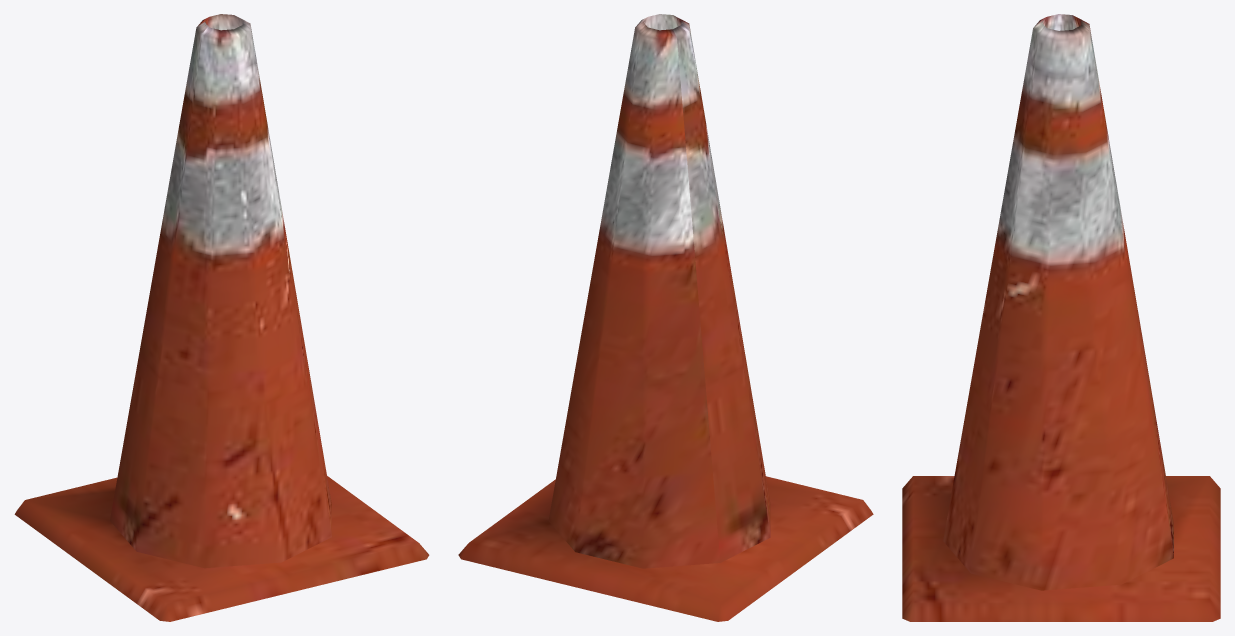
File: trafficcone001a.glb
3 renders of one model, left to right at view 1: azimuth 30°, elevation 25°; view 2: azimuth 150°, elevation 25°; view 3: azimuth 270°, elevation 25°, orthographic. The views are drawn at different scales.
Visible parts, largest first — view 1: 0_TrafficCone001a; view 2: 0_TrafficCone001a; view 3: 0_TrafficCone001a.
Part boxes in pixels (x1,y1,x2,y2): 0_TrafficCone001a: [14, 14, 429, 621]; 0_TrafficCone001a: [458, 14, 873, 621]; 0_TrafficCone001a: [902, 14, 1220, 621].
Bounding box in the file's own units: 0.4166 × 0.7552 × 0.409.
1 material, 1 textured.
